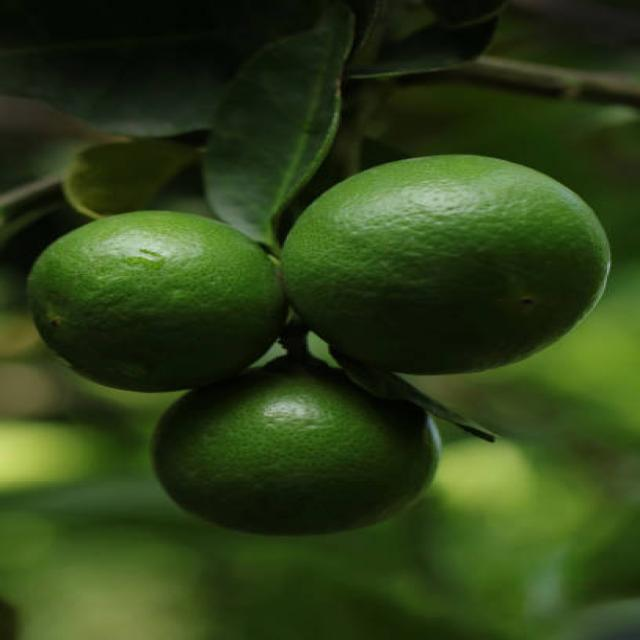Unripe: (283, 150, 611, 374), (149, 359, 445, 541), (20, 208, 290, 391)
